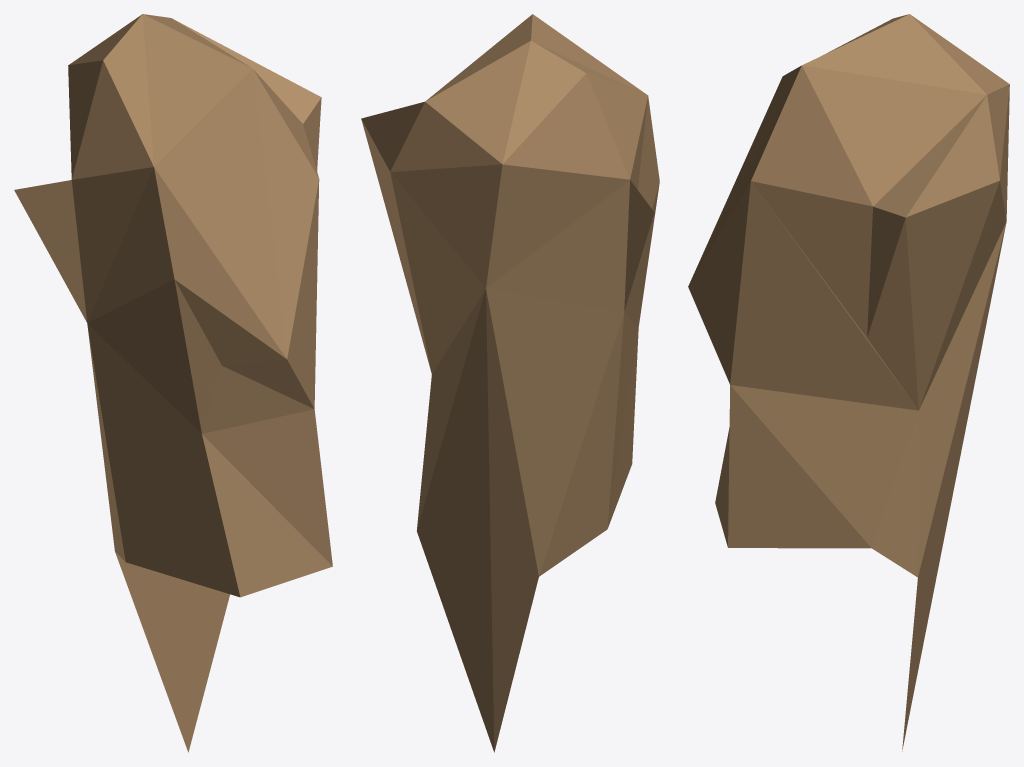
The model's file is mask-grand.glb.
3 renders of one model, left to right at view 1: azimuth 30°, elevation 25°; view 2: azimuth 150°, elevation 25°; view 3: azimuth 270°, elevation 25°, orthographic. The views are drawn at different scales.
Visible parts, largest first — view 1: z03.stl; view 2: z03.stl; view 3: z03.stl.
Boxes of the visible parts, left/top/right/bottom form: z03.stl: left=14, top=14, right=332, bottom=752; z03.stl: left=361, top=14, right=659, bottom=752; z03.stl: left=688, top=14, right=1009, bottom=751.
Bounding box in the file's own units: 6362 × 14884 × 6035.
